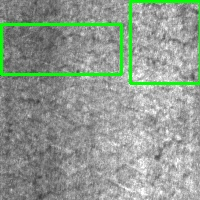crazing: (1, 24, 121, 74), (130, 1, 200, 83)
